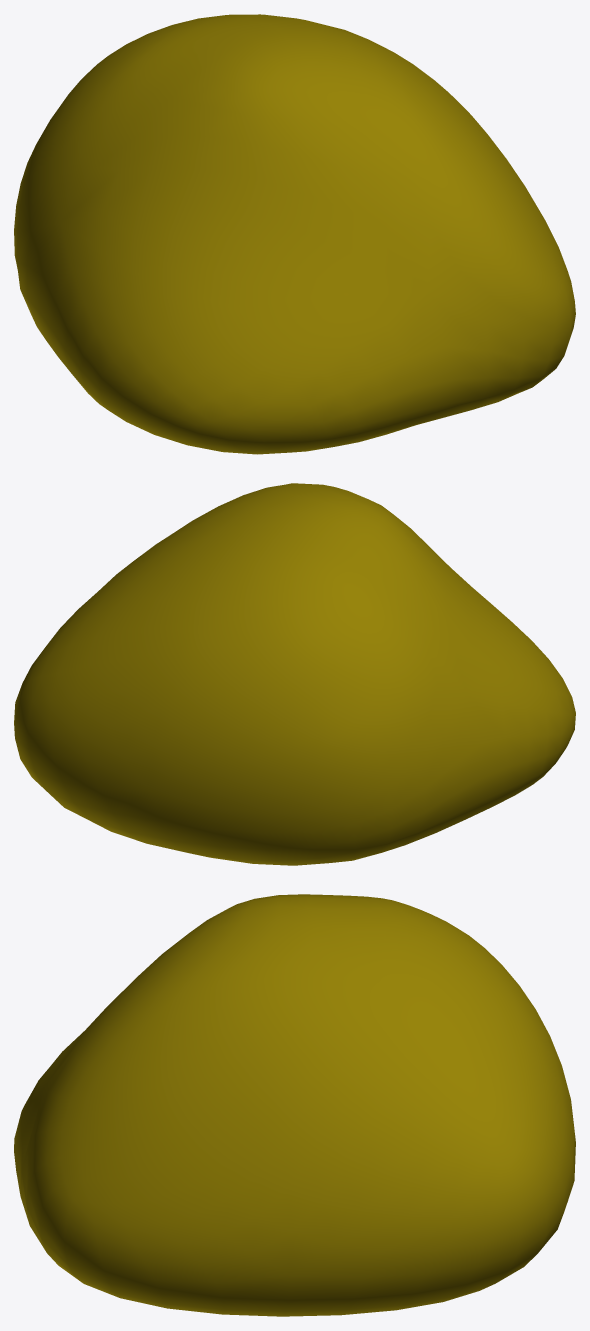
File: Gold-Nugget-2.fbx
3 renders of one model, top to bottom at view 1: azimuth 30°, elevation 25°; view 2: azimuth 150°, elevation 25°; view 3: azimuth 270°, elevation 25°, orthographic. The views are drawn at different scales.
Parts seen in each view (by area): view 1: Gold; view 2: Gold; view 3: Gold.
Part boxes in pixels (x1=…): Gold: x1=14, y1=14, x2=575, y2=454; Gold: x1=14, y1=483, x2=575, y2=865; Gold: x1=14, y1=894, x2=575, y2=1316.
Size of the model in its own units: 191 by 130 by 199.
